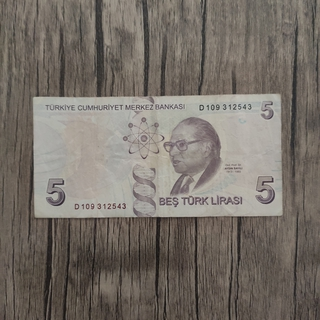5TLBack: (31, 92, 284, 218)
